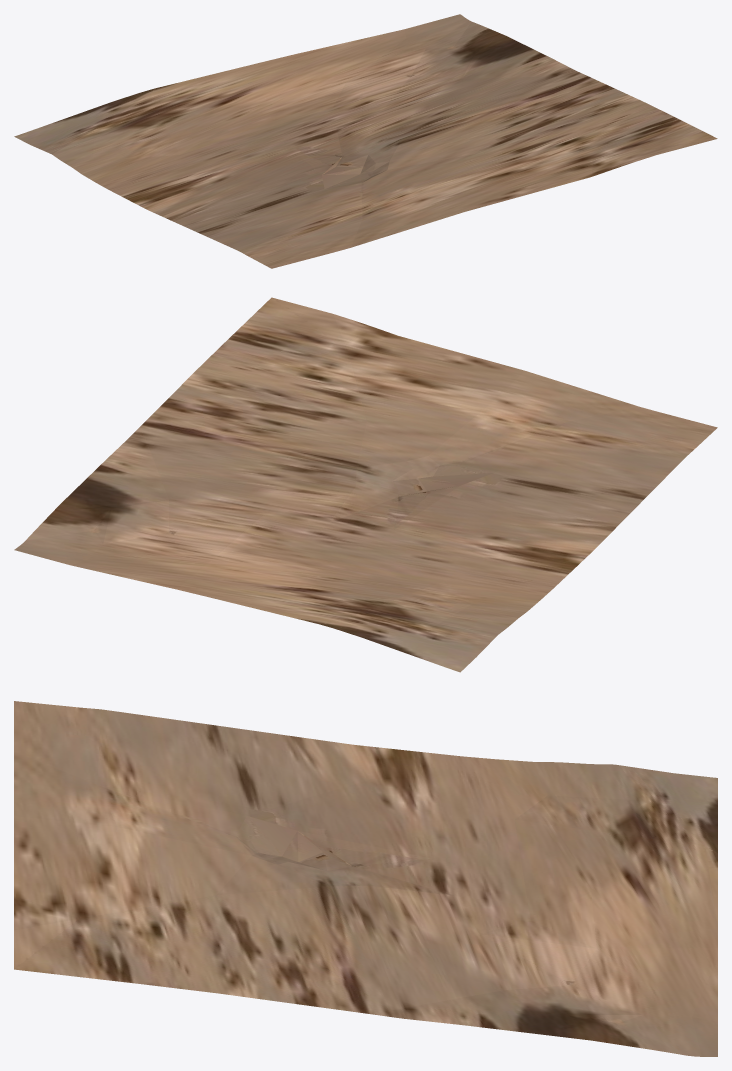
The picture shows the model from 3 angles, top to bottom: view 1: azimuth 30°, elevation 25°; view 2: azimuth 150°, elevation 25°; view 3: azimuth 270°, elevation 25°; orthographic projection. The views are drawn at different scales.
Bounding box in the file's own units: 2.09 × 0.347 × 2.09.
2 materials, 2 textured.
